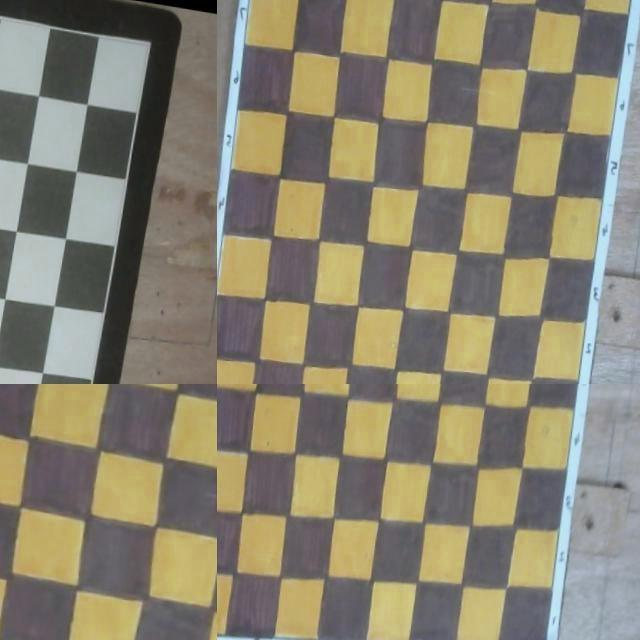chess-table-corners: (146, 32, 156, 44), (634, 0, 640, 4), (255, 0, 260, 4), (604, 384, 610, 387), (230, 384, 235, 387), (0, 384, 3, 388), (217, 629, 219, 634)
